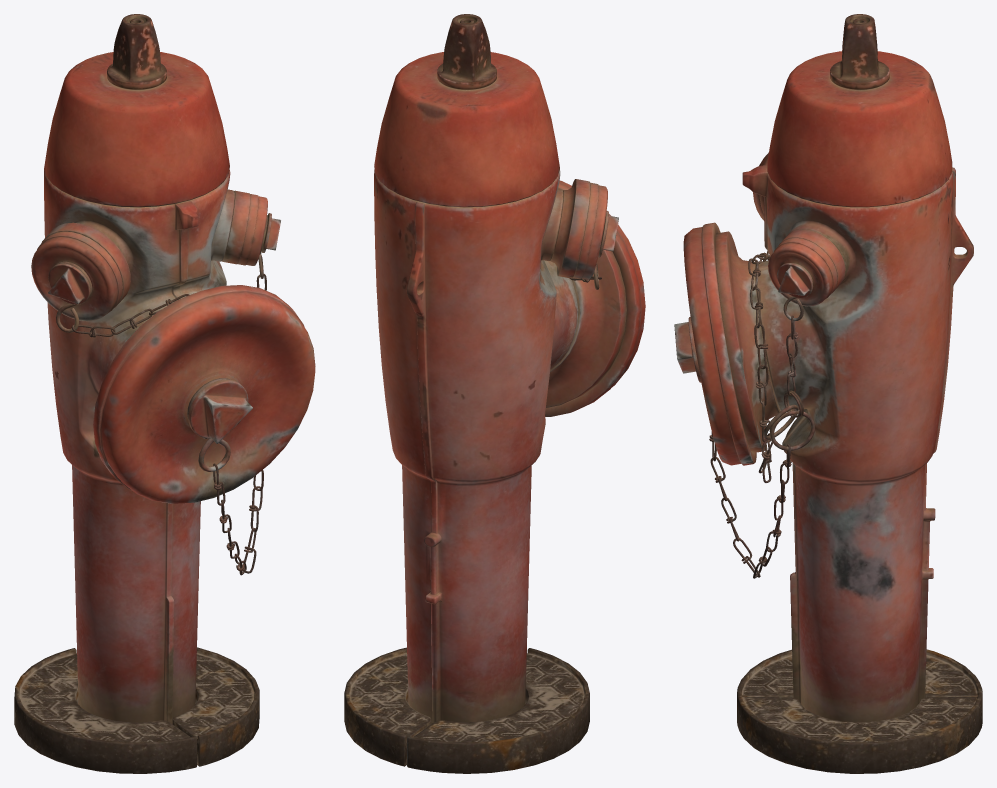
File: fire_hydrant_1k.gltf
3 renders of one model, left to right at view 1: azimuth 30°, elevation 25°; view 2: azimuth 150°, elevation 25°; view 3: azimuth 270°, elevation 25°, orthographic.
Visible parts, largest first — view 1: fire_hydrant_aged, fire_hydrant_cap_01_aged, fire_hydrant_cap_03_aged, fire_hydrant_chain_aged, fire_hydrant_cap_02_aged; view 2: fire_hydrant_aged, fire_hydrant_cap_01_aged, fire_hydrant_cap_03_aged; view 3: fire_hydrant_aged, fire_hydrant_cap_01_aged, fire_hydrant_chain_aged, fire_hydrant_cap_02_aged.
Boxes of the visible parts, x1,y1,x2,y2 form: fire_hydrant_aged: (14, 14, 259, 773); fire_hydrant_cap_01_aged: (93, 285, 315, 503); fire_hydrant_cap_03_aged: (31, 231, 122, 321); fire_hydrant_chain_aged: (56, 215, 267, 575); fire_hydrant_cap_02_aged: (237, 194, 280, 265); fire_hydrant_aged: (344, 14, 626, 773); fire_hydrant_cap_01_aged: (545, 180, 645, 416); fire_hydrant_cap_03_aged: (573, 182, 618, 279); fire_hydrant_aged: (715, 14, 982, 773); fire_hydrant_cap_01_aged: (674, 222, 756, 465); fire_hydrant_chain_aged: (709, 250, 814, 578); fire_hydrant_cap_02_aged: (768, 238, 837, 306).
Bounding box in the file's own units: 0.2746 × 0.7995 × 0.3177.
1 material, 1 textured.
